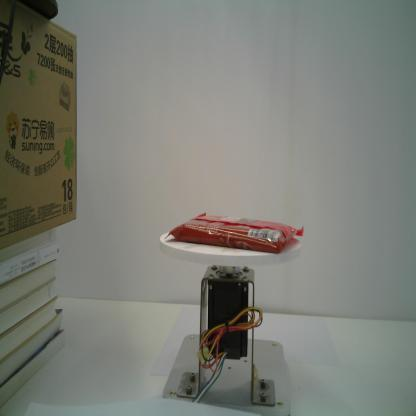Dessert: (163, 212, 304, 254)
